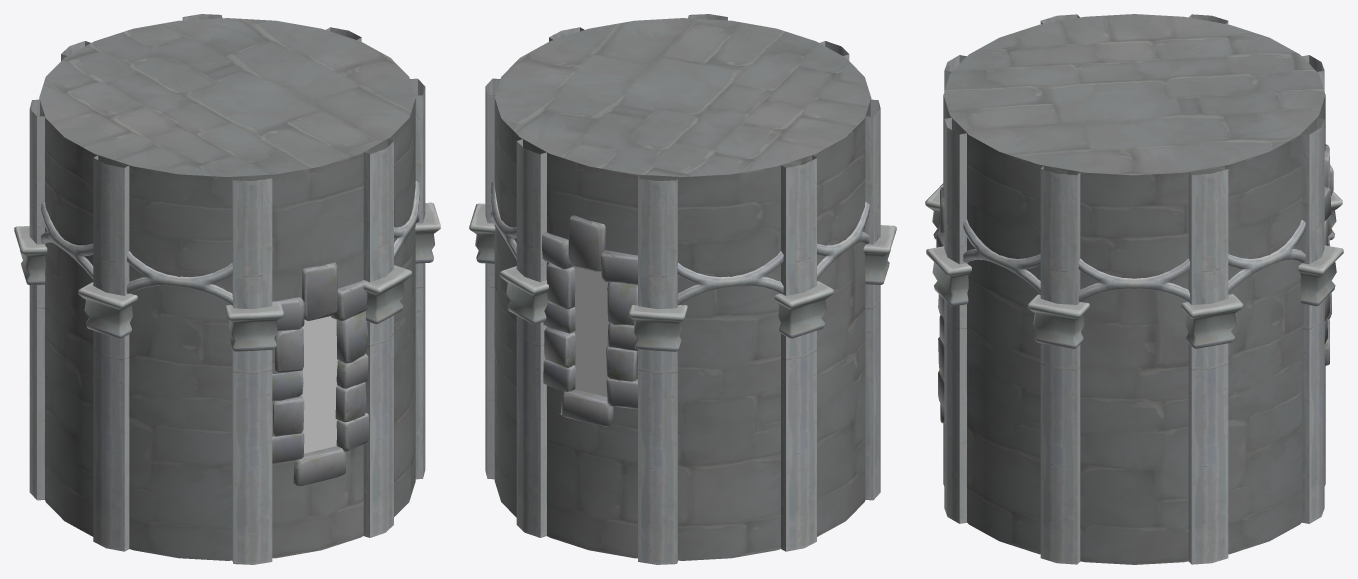
File: SM_TowerD_2Window.fbx
The picture shows the model from 3 angles, left to right: view 1: azimuth 30°, elevation 25°; view 2: azimuth 150°, elevation 25°; view 3: azimuth 270°, elevation 25°; orthographic projection.
Visible parts, largest first — view 1: SM_TowerD_2Window_LOD0; view 2: SM_TowerD_2Window_LOD0; view 3: SM_TowerD_2Window_LOD0.
Boxes of the visible parts, <box> form: SM_TowerD_2Window_LOD0: <box>14,14,440,564</box>; SM_TowerD_2Window_LOD0: <box>469,14,896,564</box>; SM_TowerD_2Window_LOD0: <box>925,14,1343,564</box>.
Size of what is drawn, in the model's own units: 438 by 450 by 438.
